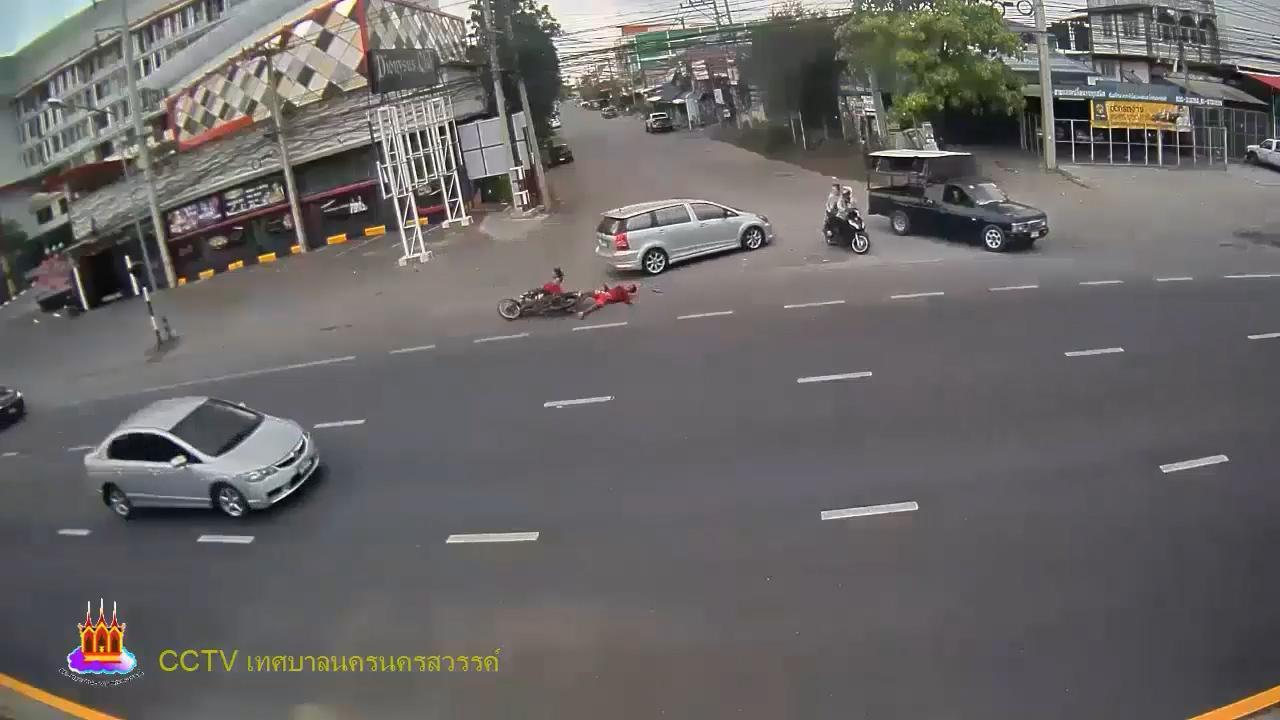accident: (576, 280, 639, 320)
